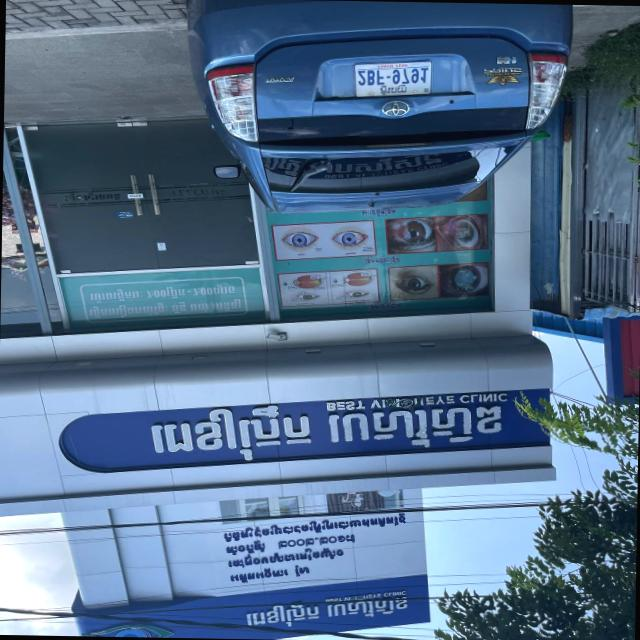1: (141, 401, 509, 467), (238, 595, 411, 630), (224, 531, 359, 556), (225, 562, 312, 587)
3: (86, 296, 246, 320)
631: (355, 70, 367, 87)
76: (87, 282, 238, 306)
885: (389, 67, 428, 84)
Yolov11_80vkh: (222, 510, 408, 544), (223, 545, 347, 571), (361, 252, 402, 267), (376, 83, 408, 96)
